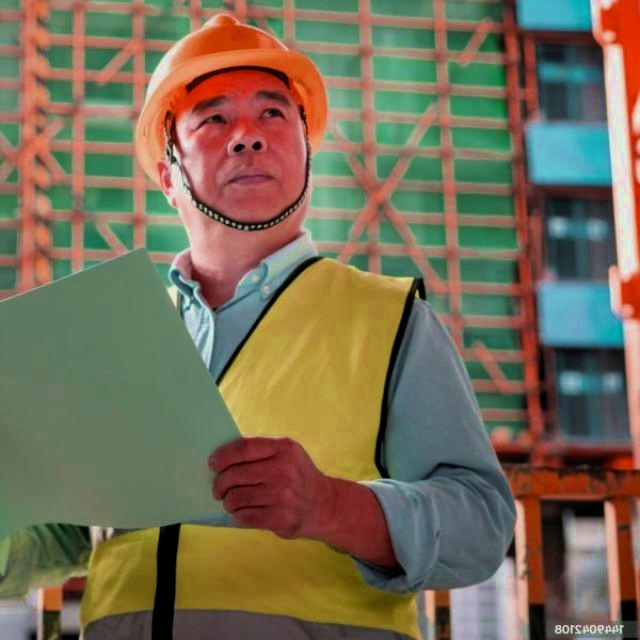Con_Casco: (137, 14, 332, 231)
Con_Chaleco: (81, 256, 439, 640)
